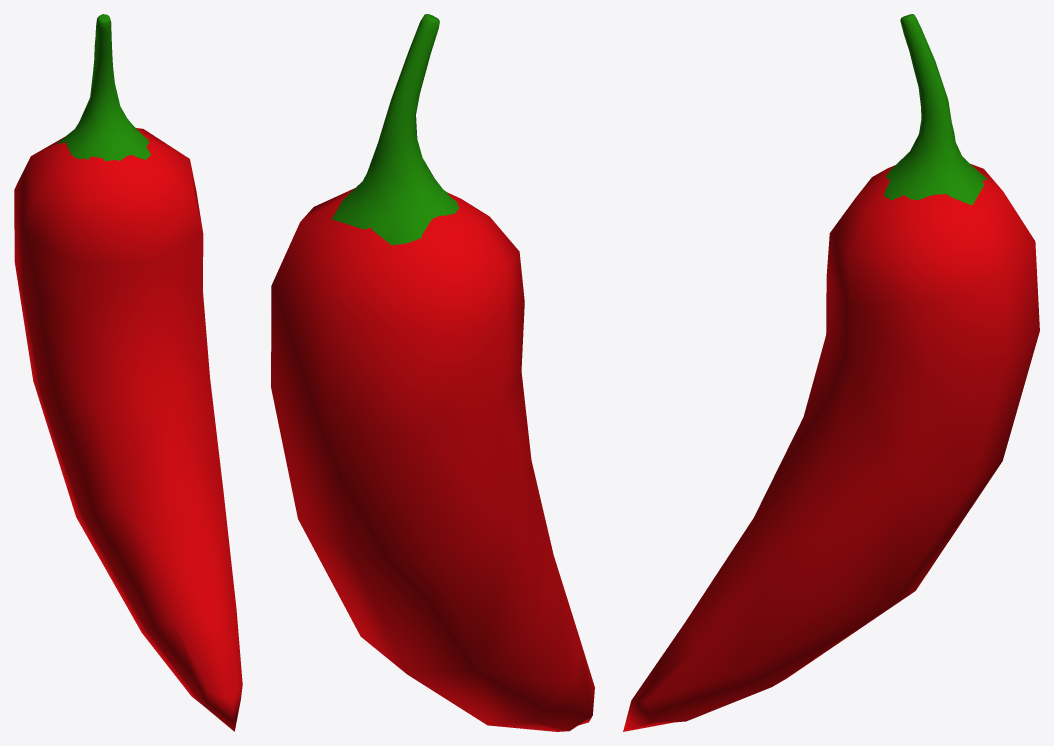
File: guindilla.fbx
3 views of the same model, side by side, from view 1: azimuth 30°, elevation 25°; view 2: azimuth 150°, elevation 25°; view 3: azimuth 270°, elevation 25° (orthographic). The views are drawn at different scales.
Visible parts, largest first — view 1: Cube, Cube.006; view 2: Cube, Cube.006; view 3: Cube, Cube.006.
Part boxes in pixels (bbox=[...]): Cube: bbox=[14, 128, 242, 731]; Cube.006: bbox=[57, 14, 150, 161]; Cube: bbox=[271, 188, 594, 731]; Cube.006: bbox=[332, 14, 459, 245]; Cube: bbox=[623, 163, 1039, 731]; Cube.006: bbox=[884, 14, 987, 205].
Size of the model in its own units: 159 by 562 by 297.
